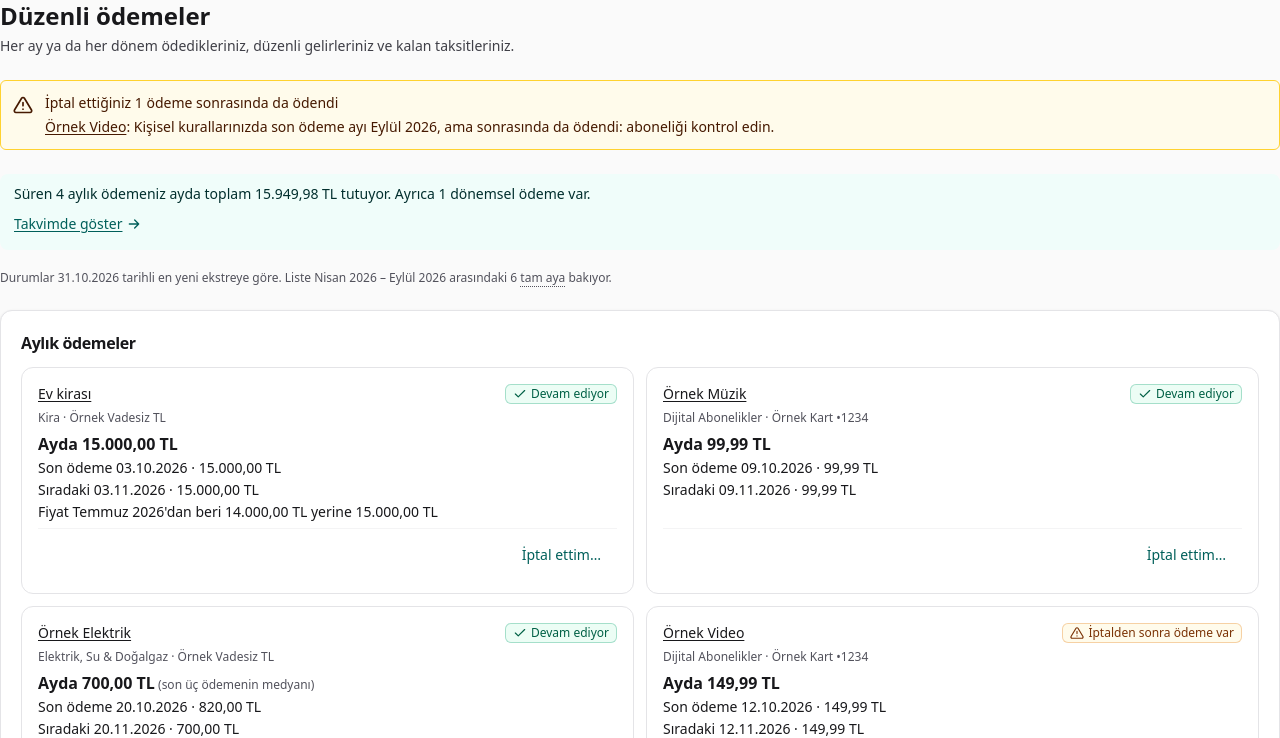
SubscriptionsPage › warns of a payment after a cancellation, and opens the payments with the late one marked
The width and height of the screenshot is (1280, 738).
Click the 1st link "Örnek Video" at coordinates (86, 126), box [45,117,126,136]
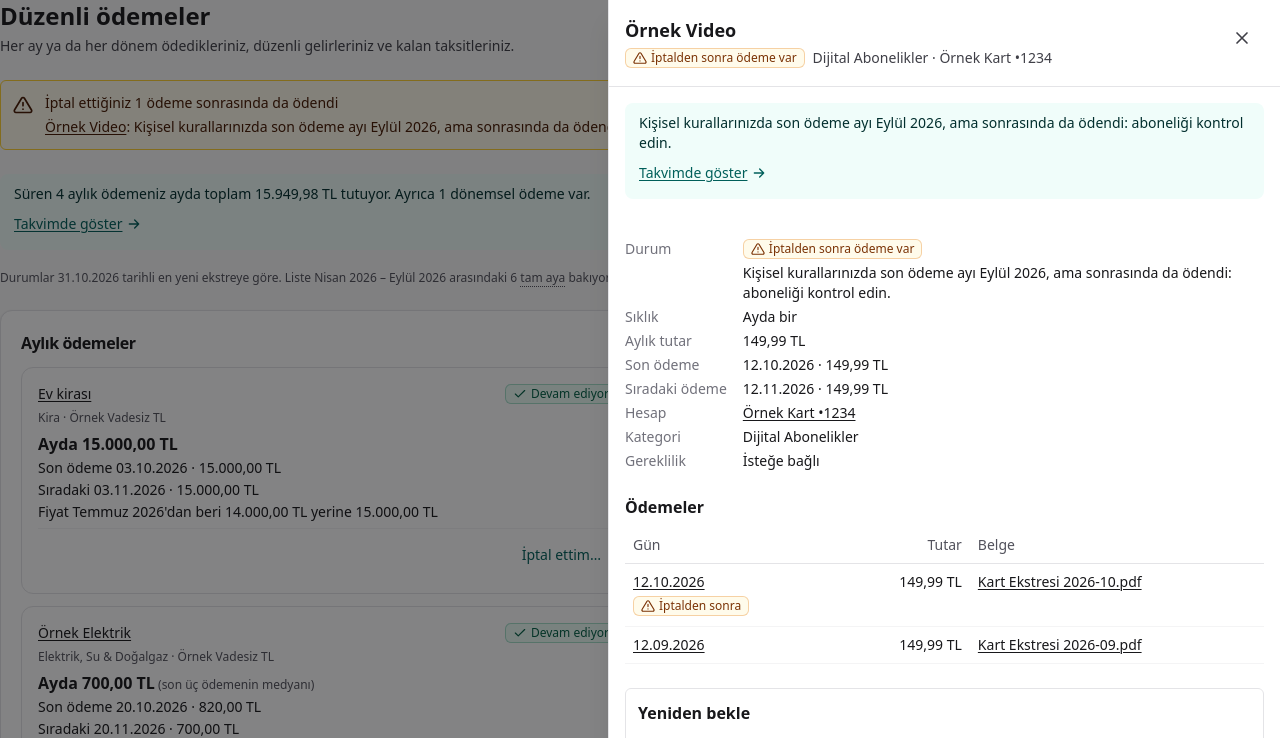
Result: the row that starts with "İptalden sonra" shows "12.10.2026" at [633,572,705,591]
Result: the text "İptalden sonra" is shown at [633,596,749,616]
